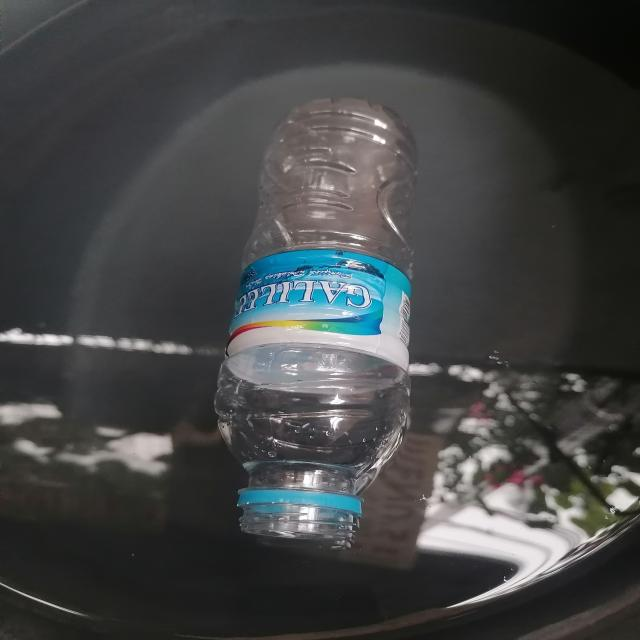Plastic Bottle: (192, 75, 448, 562)
